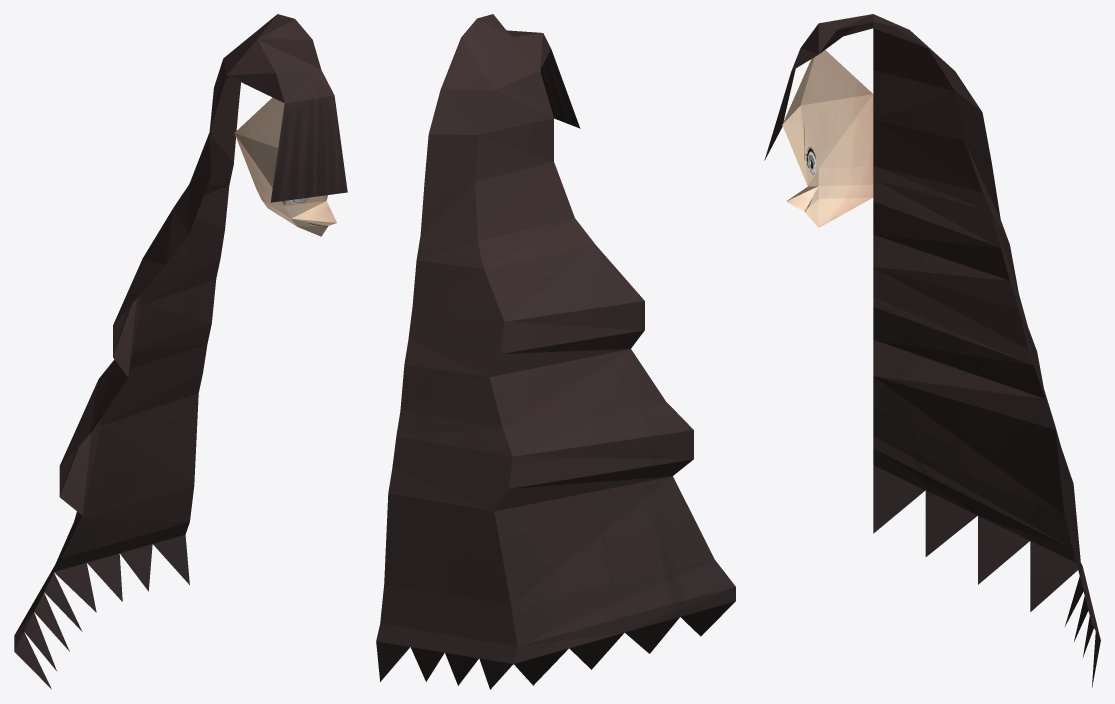
Rendered from teiri.dae.
3 views of the same model, side by side, from view 1: azimuth 30°, elevation 25°; view 2: azimuth 150°, elevation 25°; view 3: azimuth 270°, elevation 25° (orthographic). The views are drawn at different scales.
Parts seen in each view (by area): view 1: Plane; view 2: Plane; view 3: Plane.
Part boxes in pixels (x1,y1,x2,y2): Plane: (14, 14, 347, 689); Plane: (376, 14, 735, 689); Plane: (764, 14, 1100, 687).
Bounding box in the file's own units: 1.85 × 1.85 × 4.05.
Materials: 1 (1 with a texture image).
